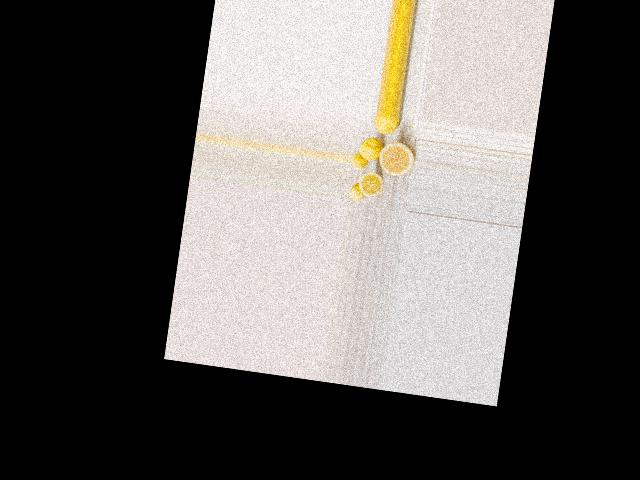lemon: (371, 113, 402, 138)
